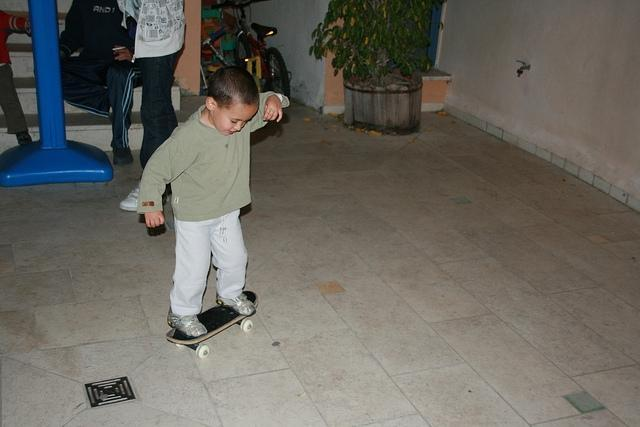bicycle: (212, 0, 290, 96)
